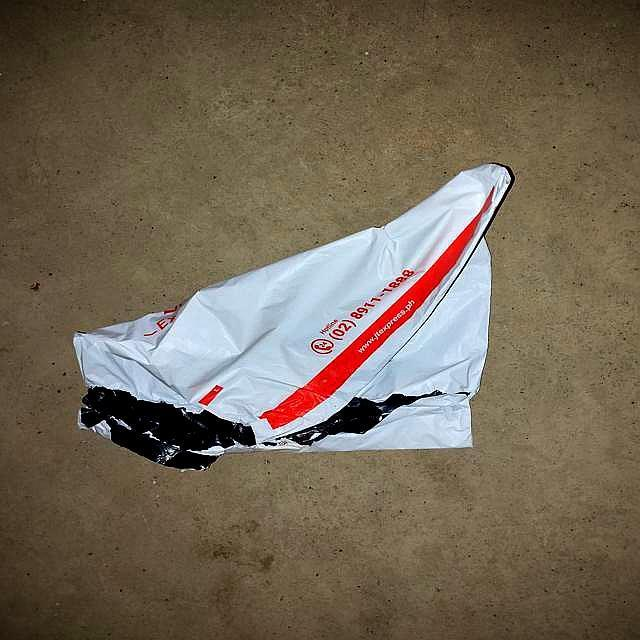Non-biodegradable: (69, 151, 519, 479)
